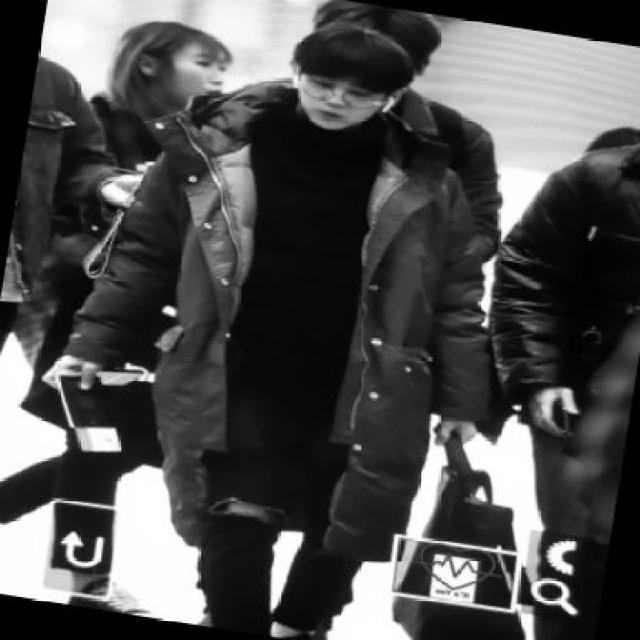earphone: (376, 82, 397, 127), (289, 58, 301, 101)
